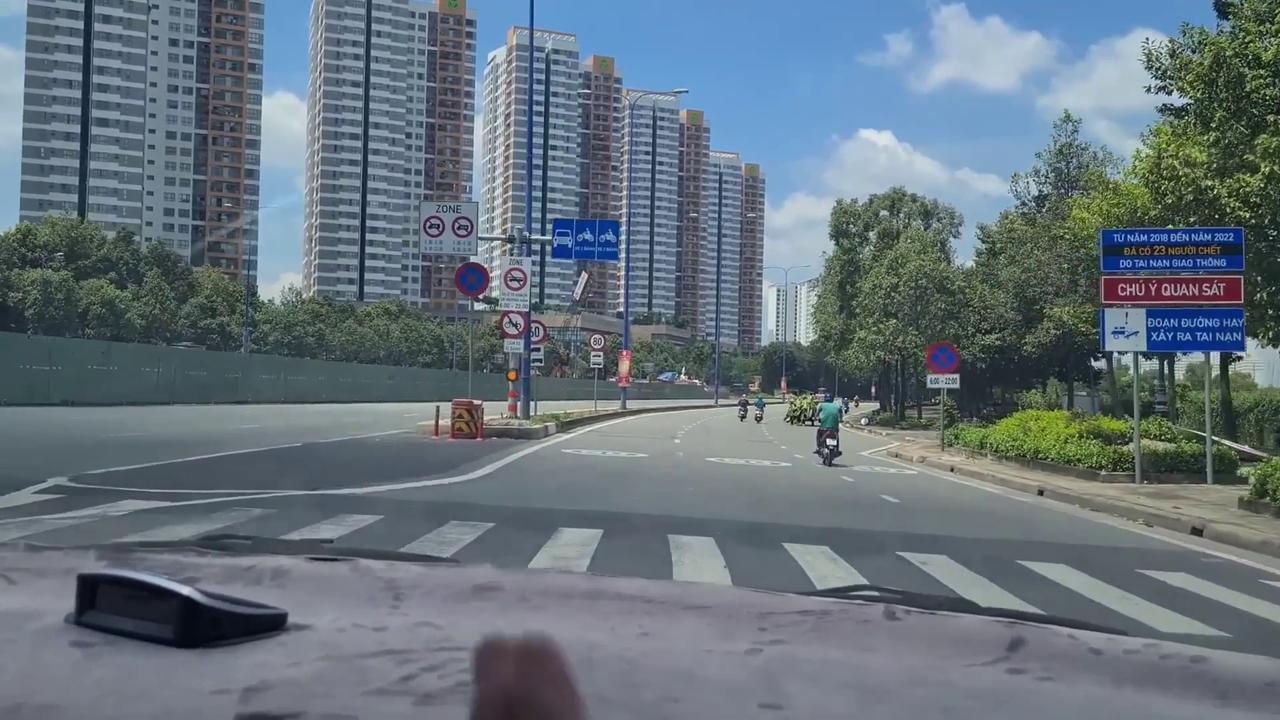Biển phụ: (528, 343, 546, 367), (589, 350, 604, 368)
Cấm cac phương tiện hoạt động trong khung giờ cố định: (416, 199, 479, 257), (497, 254, 530, 314), (927, 374, 961, 388)
Cấm dừng - Cấm đỗ: (455, 261, 490, 298), (926, 338, 960, 374)
Cấm xe máy: (499, 310, 528, 340)
GIơi hạn tốc độ 60Km/h: (528, 318, 548, 345)
Giới hạn tốc độ 80Km/h: (587, 332, 607, 351)
Khác: (1095, 222, 1247, 356)
Làn đường cho từng xe: (549, 217, 621, 263)
